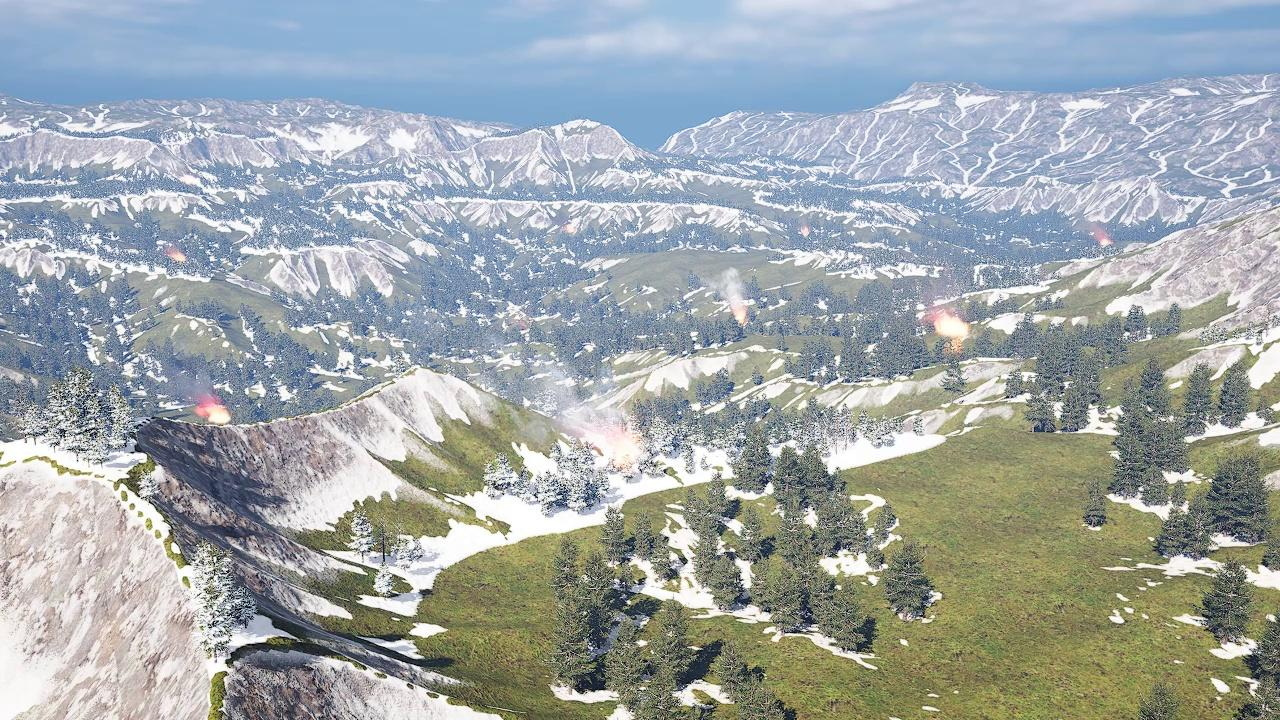fire: (605, 430, 643, 464), (936, 316, 966, 336), (201, 403, 231, 422), (1098, 231, 1116, 247), (733, 309, 746, 326), (173, 249, 189, 262), (564, 223, 578, 237), (798, 226, 809, 238)
smoke: (547, 376, 628, 442), (926, 285, 968, 319), (714, 266, 745, 306), (176, 379, 218, 407), (1083, 210, 1108, 240)
